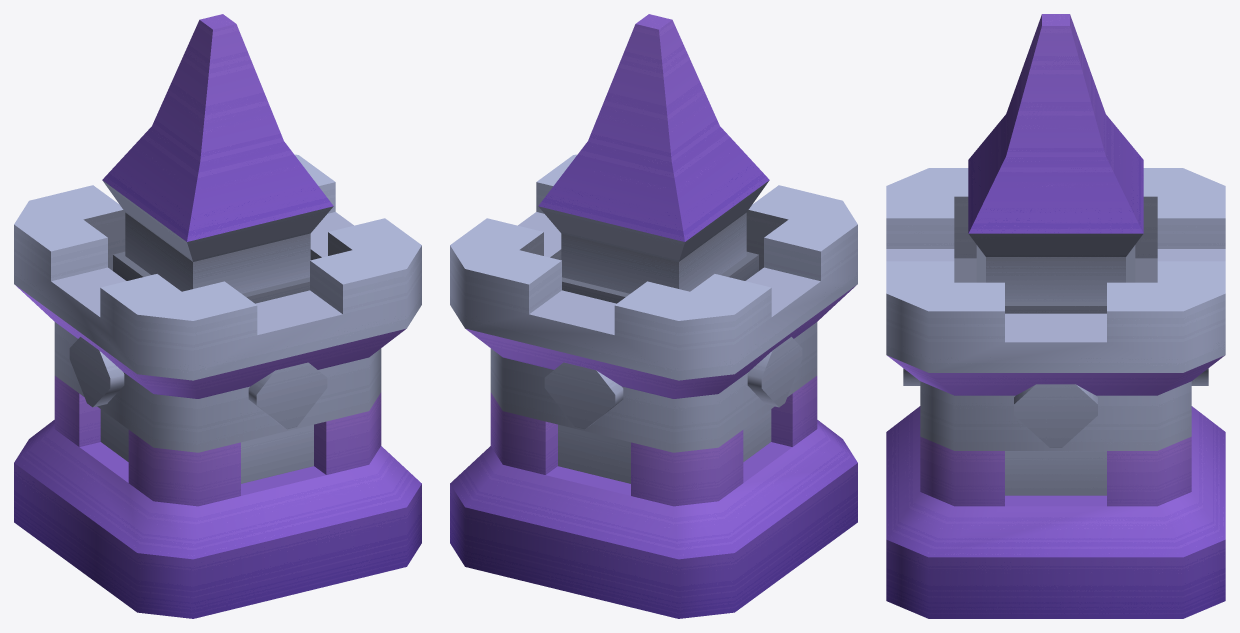
The model's file is tower-defense-kit--tower-square-build-f.glb.
3 views of the same model, side by side, from view 1: azimuth 30°, elevation 25°; view 2: azimuth 150°, elevation 25°; view 3: azimuth 270°, elevation 25° (orthographic). The views are drawn at different scales.
Visible parts, largest first — view 1: tower-square-build-f; view 2: tower-square-build-f; view 3: tower-square-build-f.
Boxes of the visible parts, x1=… form: tower-square-build-f: x1=14, y1=14, x2=421, y2=618; tower-square-build-f: x1=450, y1=14, x2=857, y2=618; tower-square-build-f: x1=886, y1=14, x2=1225, y2=618.
Bounding box in the file's own units: 1 × 1.71 × 1.
1 material, 1 textured.
